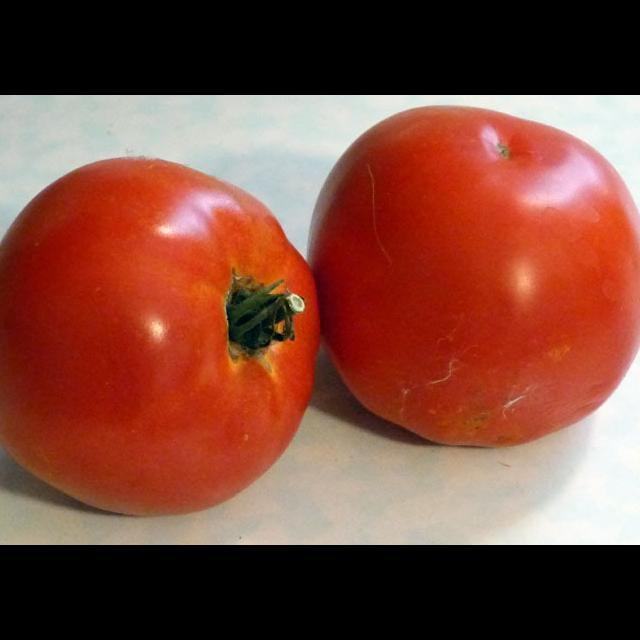tomato: (289, 103, 640, 457), (0, 151, 321, 532)
